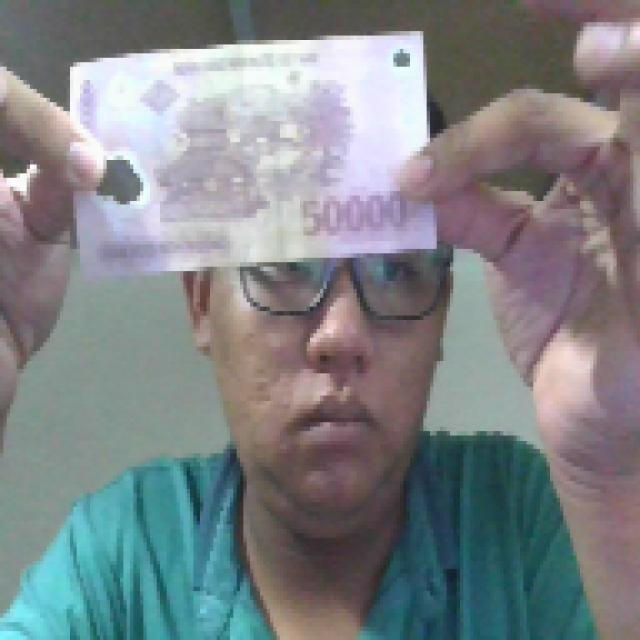50 000 VND: (63, 22, 440, 280)
